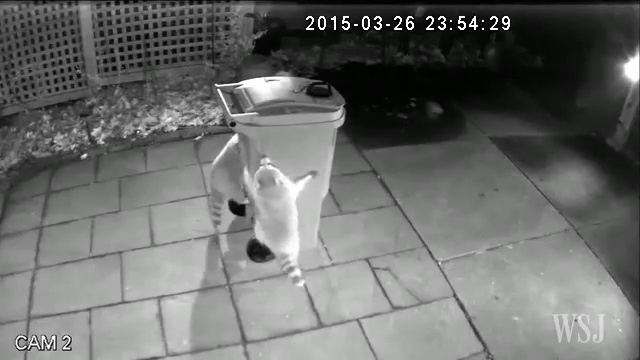raccoon: (243, 157, 317, 290)
